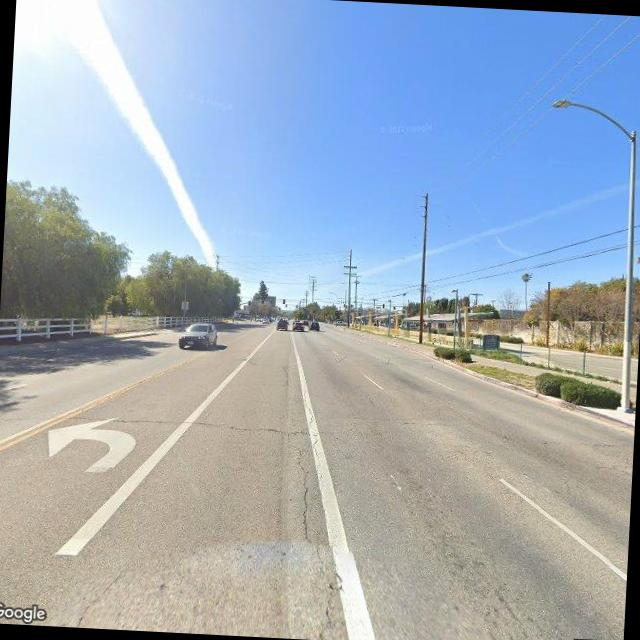crack: (280, 433, 350, 640), (36, 408, 285, 440), (294, 373, 324, 456), (278, 362, 292, 392)
